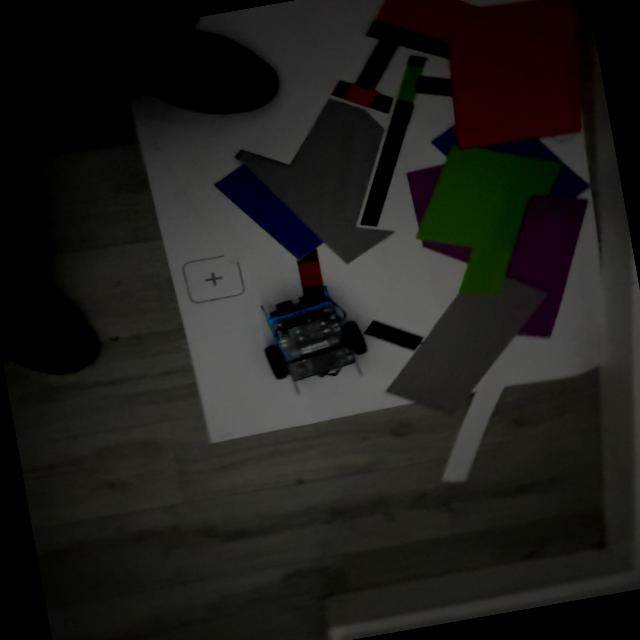mbot-detection: (248, 276, 380, 406)
